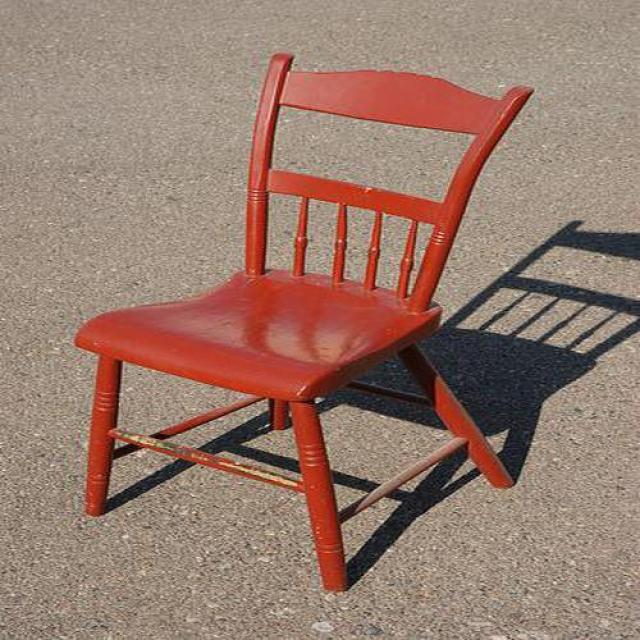chair: (74, 52, 532, 595)
